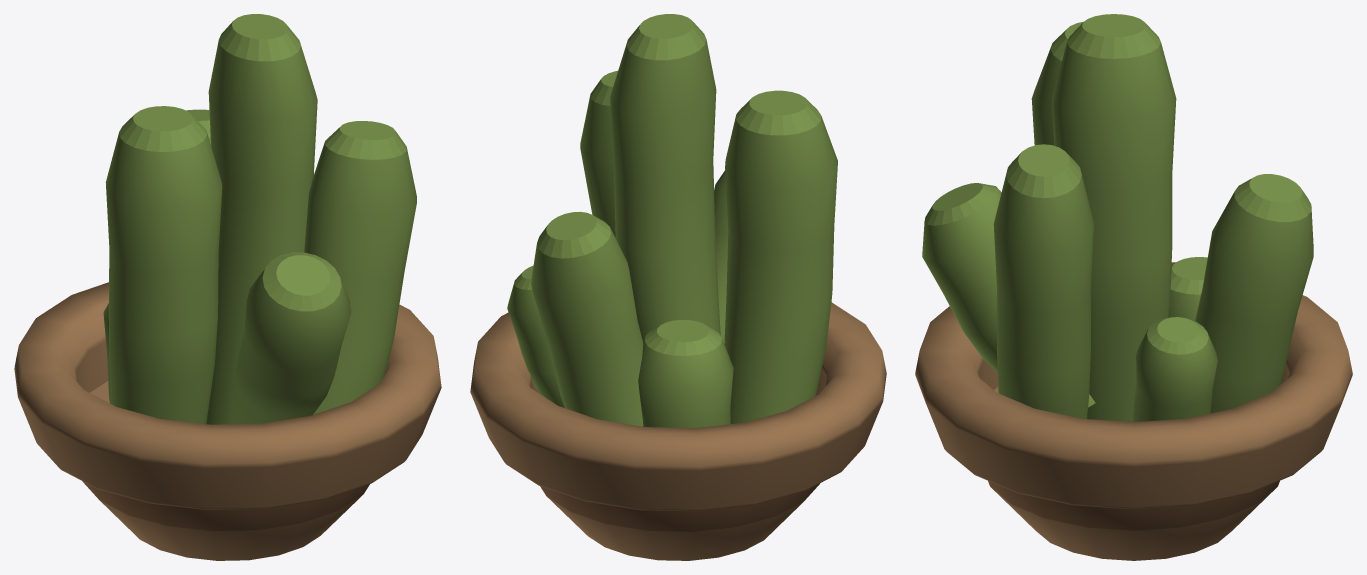
File: cactus1_nieuwestijl.fbx
The picture shows the model from 3 angles, left to right: view 1: azimuth 30°, elevation 25°; view 2: azimuth 150°, elevation 25°; view 3: azimuth 270°, elevation 25°; orthographic projection. The views are drawn at different scales.
Parts seen in each view (by area): view 1: pCylinder42; view 2: pCylinder42; view 3: pCylinder42.
Part boxes in pixels (bbox=[...]): pCylinder42: bbox=[14, 14, 441, 560]; pCylinder42: bbox=[470, 14, 886, 560]; pCylinder42: bbox=[915, 14, 1352, 560].
Size of the model in its own units: 1.33 by 1.69 by 1.33.
